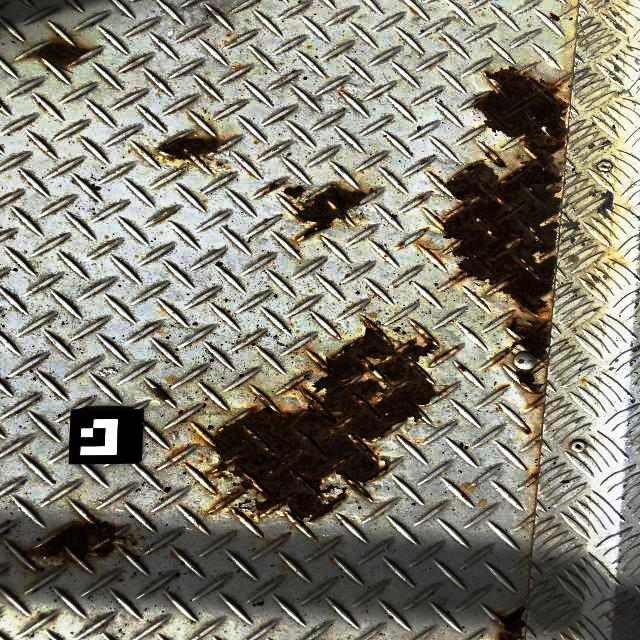Corrosion: (204, 317, 448, 535), (425, 66, 572, 320), (20, 514, 138, 567), (491, 314, 551, 408), (291, 184, 371, 241), (154, 134, 232, 171), (19, 39, 91, 71), (493, 605, 527, 640), (191, 423, 217, 447), (282, 185, 308, 200), (262, 180, 286, 195), (151, 384, 171, 401), (429, 351, 449, 367), (205, 480, 220, 495), (171, 447, 188, 458), (183, 462, 198, 471), (528, 472, 537, 487), (455, 364, 468, 373), (521, 425, 532, 435), (304, 371, 312, 381), (195, 518, 203, 527), (532, 439, 542, 446), (498, 385, 509, 391), (417, 195, 426, 202), (420, 159, 430, 165), (398, 242, 405, 248), (422, 227, 429, 233), (142, 422, 148, 427), (197, 460, 204, 463), (525, 467, 528, 471)
